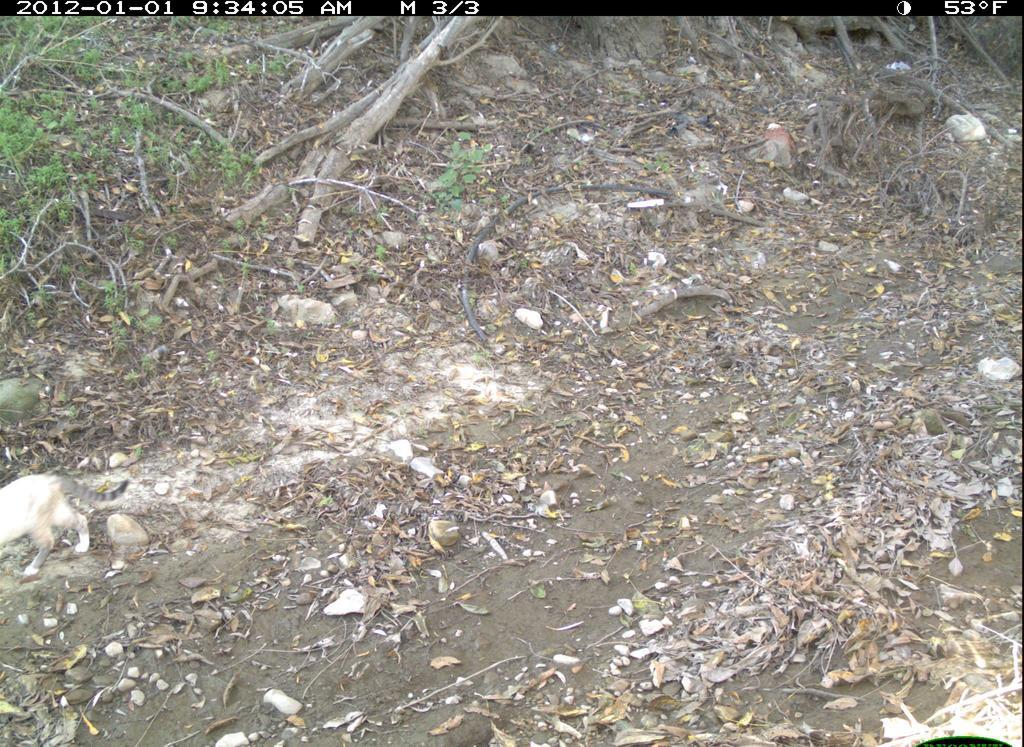cat: (1, 468, 135, 581)
